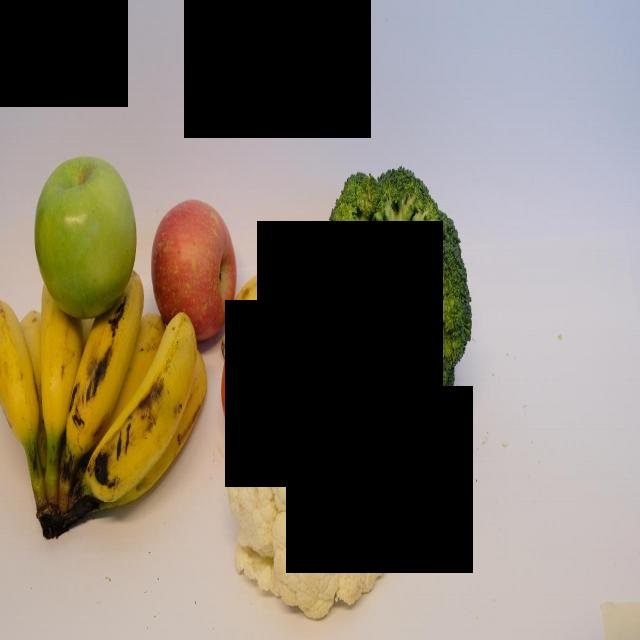apple: (29, 141, 148, 323), (152, 184, 238, 348)
banana: (92, 302, 206, 528), (65, 267, 140, 482), (220, 258, 348, 378), (31, 273, 88, 482), (2, 292, 38, 457)
broccoli: (318, 146, 480, 437)
cauliflower: (216, 340, 413, 630)
tomato: (222, 313, 294, 427)
